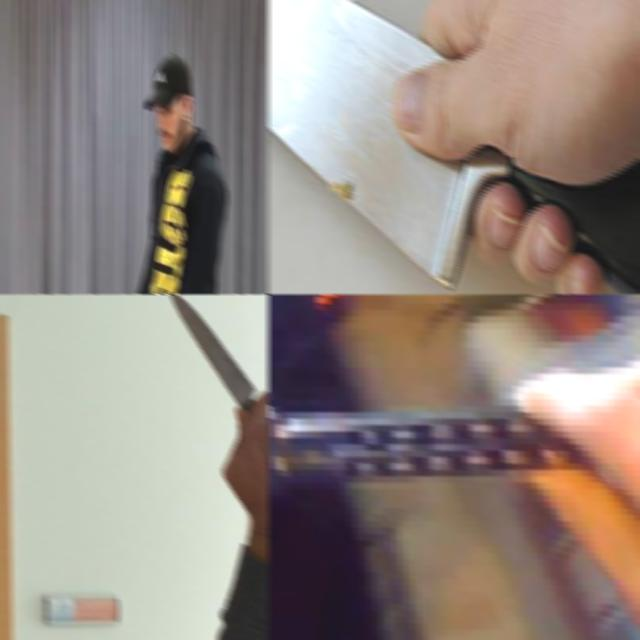Knife: (267, 0, 640, 294), (166, 294, 258, 408)
Knife_Handle: (267, 345, 640, 626), (169, 294, 269, 524)
